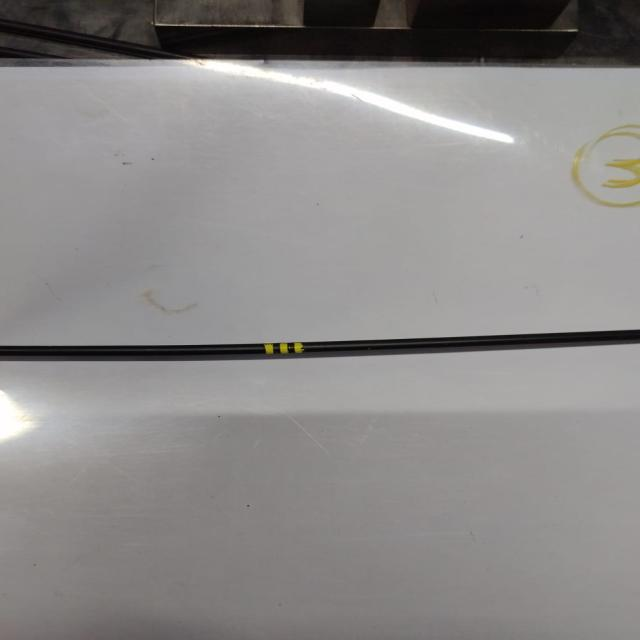yellow: (263, 342, 302, 354)
